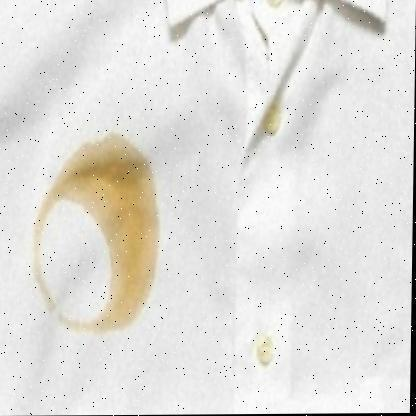coffee: (96, 216, 161, 320), (68, 146, 155, 213)
